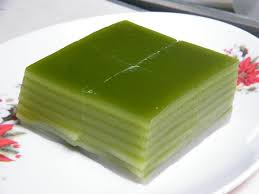kanomchan: (13, 17, 241, 187)
